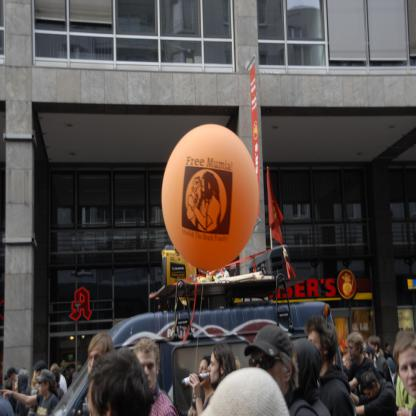Ball: (161, 122, 258, 271)
